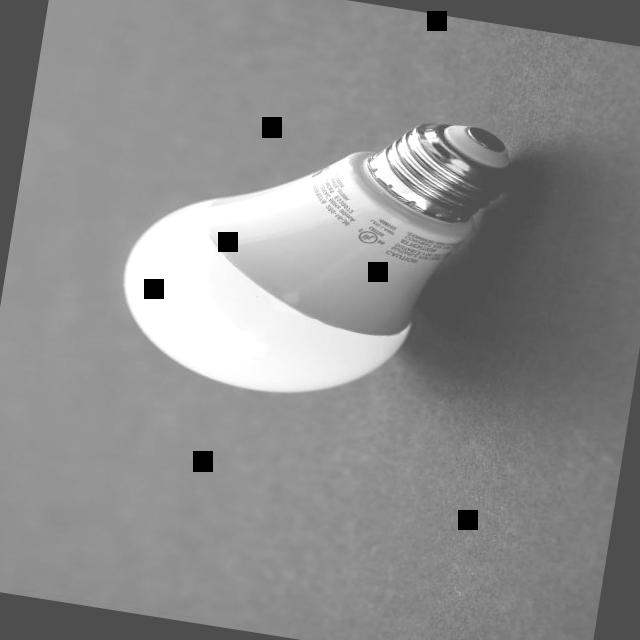light_bulb: (62, 58, 568, 452)
